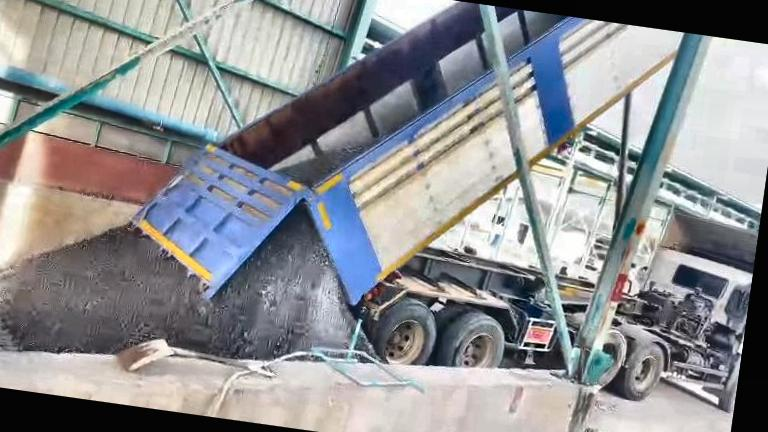gravel: (0, 208, 354, 359), (279, 137, 384, 185), (562, 430, 663, 432)
